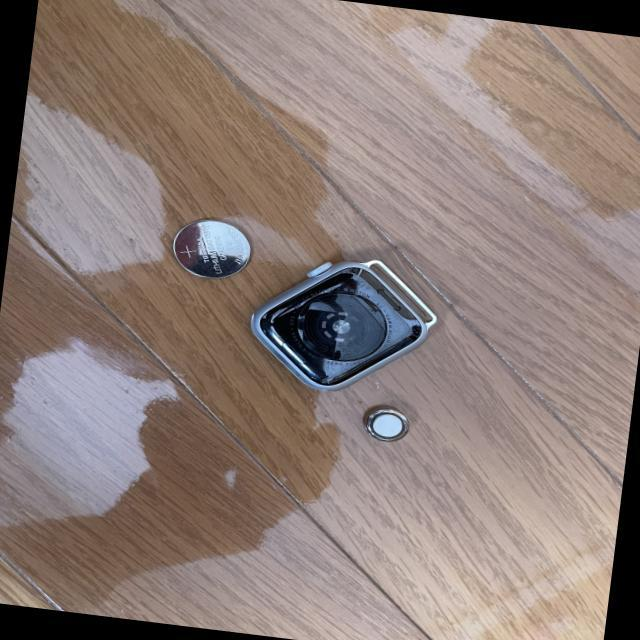COIN: (166, 215, 252, 279), (361, 403, 412, 444)
